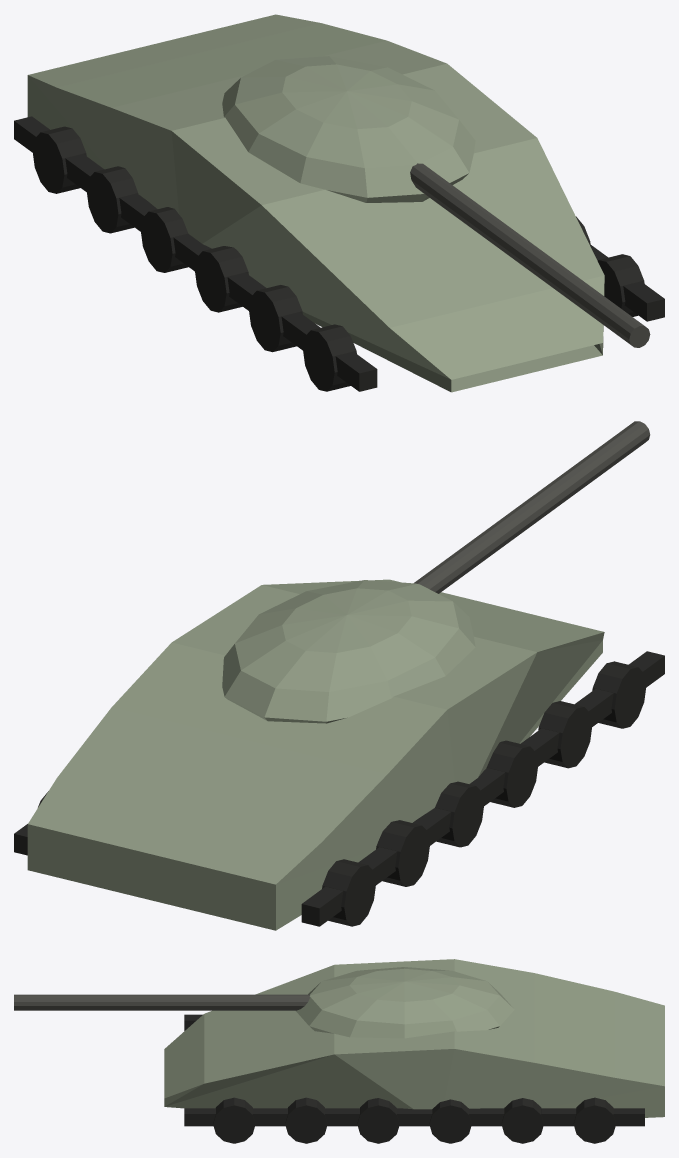
3 views of the same model, one above another, from view 1: azimuth 30°, elevation 25°; view 2: azimuth 150°, elevation 25°; view 3: azimuth 270°, elevation 25° (orthographic). The views are drawn at different scales.
Parts seen in each view (by area): view 1: Hull, Turret, Gun, Track_L, Wheel_L_06, Wheel_L_01, Wheel_L_02, Wheel_L_03, Wheel_L_05, Wheel_L_04, Wheel_R_01, Track_R; view 2: Hull, Turret, Gun, Track_L, Wheel_L_01, Wheel_L_02, Wheel_L_06, Wheel_L_05, Wheel_L_03, Wheel_L_04; view 3: Hull, Turret, Gun, Track_R, Wheel_R_06, Wheel_R_01, Wheel_R_02, Wheel_R_05, Wheel_R_03, Wheel_R_04.
Boxes of the visible parts, <box> form: Hull: <box>27,14,604,392</box>; Turret: <box>222,56,475,202</box>; Gun: <box>410,163,650,347</box>; Track_L: <box>14,116,377,391</box>; Wheel_L_06: <box>32,126,86,193</box>; Wheel_L_01: <box>303,324,356,391</box>; Wheel_L_02: <box>249,285,302,352</box>; Wheel_L_03: <box>195,246,248,312</box>; Wheel_L_05: <box>86,166,138,233</box>; Wheel_L_04: <box>140,207,188,272</box>; Wheel_R_01: <box>597,254,644,316</box>; Track_R: <box>589,243,664,321</box>; Hull: <box>27,579,604,930</box>; Turret: <box>222,580,475,723</box>; Gun: <box>414,421,650,593</box>; Track_L: <box>301,651,664,926</box>; Wheel_L_01: <box>592,661,646,728</box>; Wheel_L_02: <box>538,701,592,768</box>; Wheel_L_06: <box>322,859,375,926</box>; Wheel_L_05: <box>376,820,429,886</box>; Wheel_L_03: <box>486,740,538,807</box>; Wheel_L_04: <box>435,781,483,847</box>; Hull: <box>164,959,664,1117</box>; Turret: <box>296,967,514,1038</box>; Gun: <box>14,994,309,1010</box>; Track_R: <box>184,1108,644,1126</box>; Wheel_R_06: <box>573,1097,615,1143</box>; Wheel_R_01: <box>213,1097,255,1143</box>; Wheel_R_02: <box>285,1097,327,1143</box>; Wheel_R_05: <box>501,1098,543,1143</box>; Wheel_R_03: <box>357,1098,399,1143</box>; Wheel_R_04: <box>429,1099,471,1143</box>.
Bounding box in the file's own units: 3.8 × 1.95 × 10.3.
